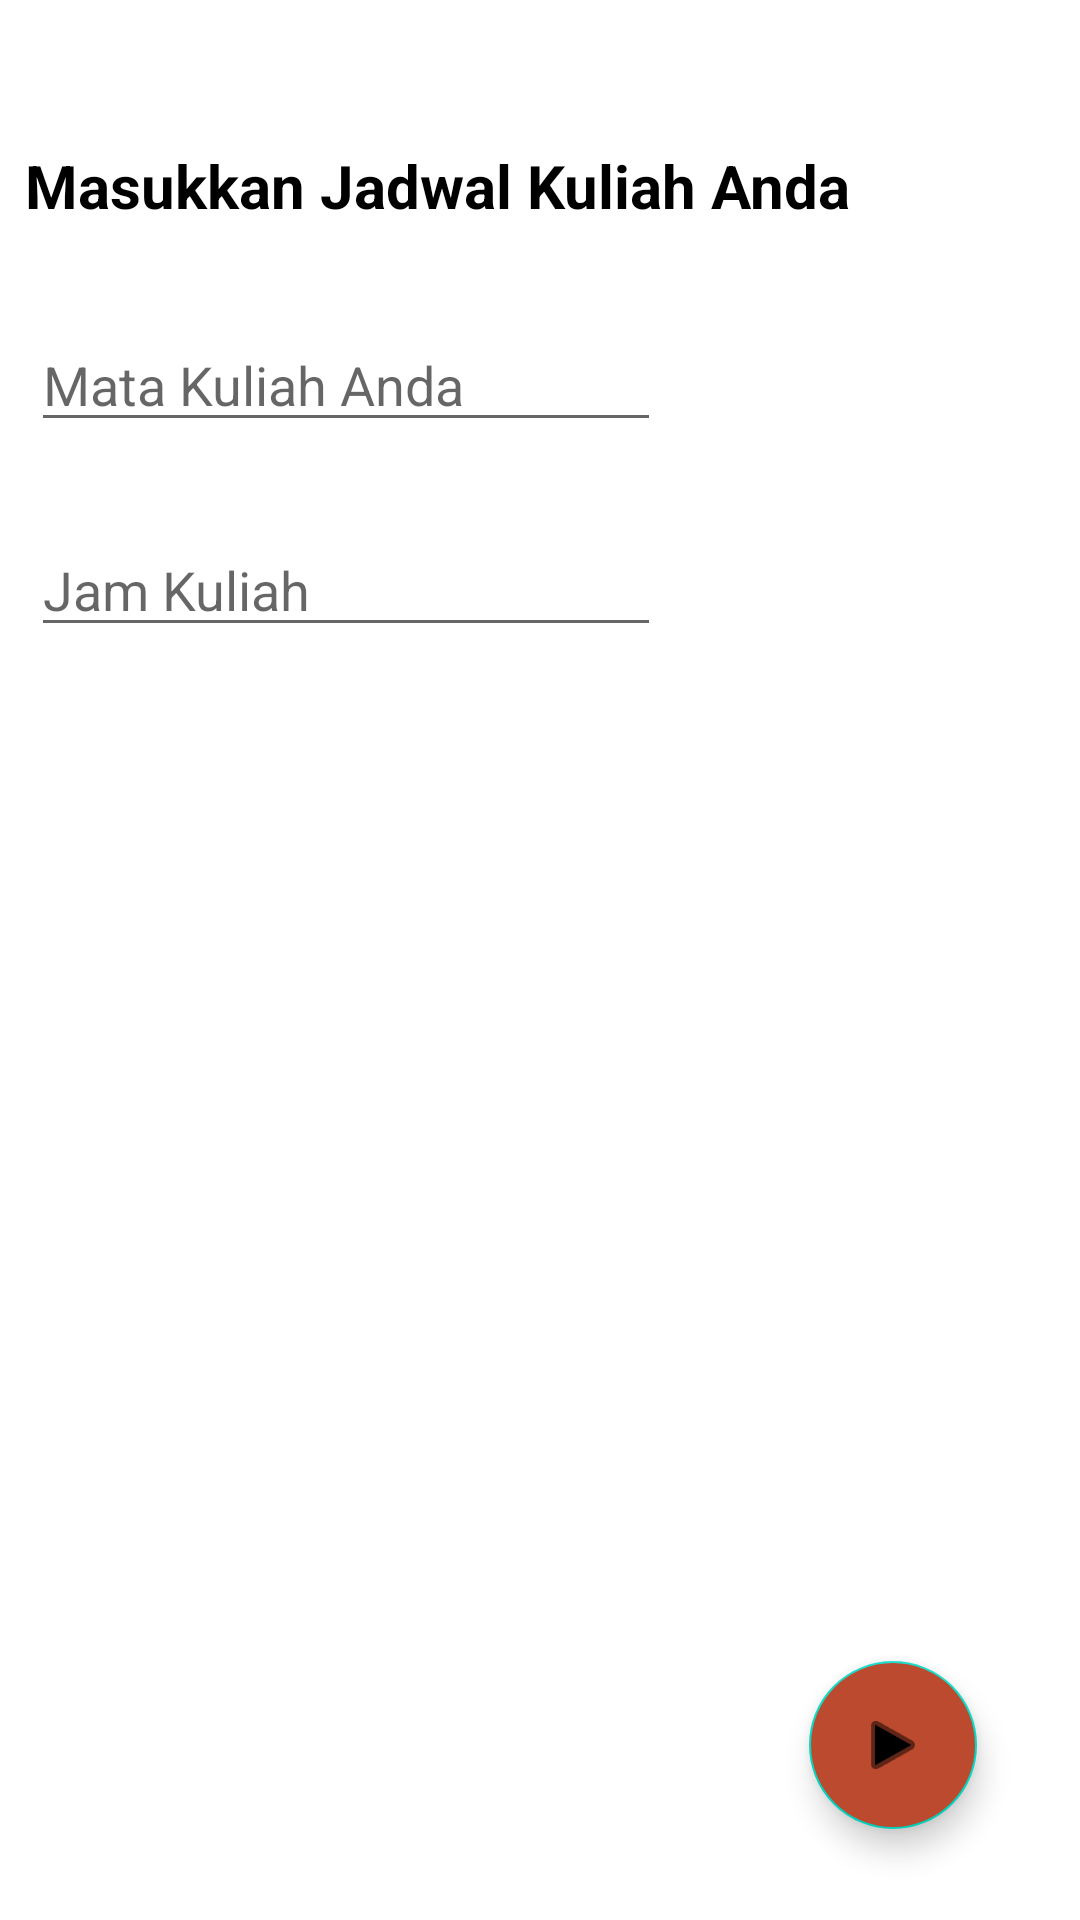

Icons on this 1080×1920 Android screen, each with the point to tap as (x,y):
play: (893,1745)
